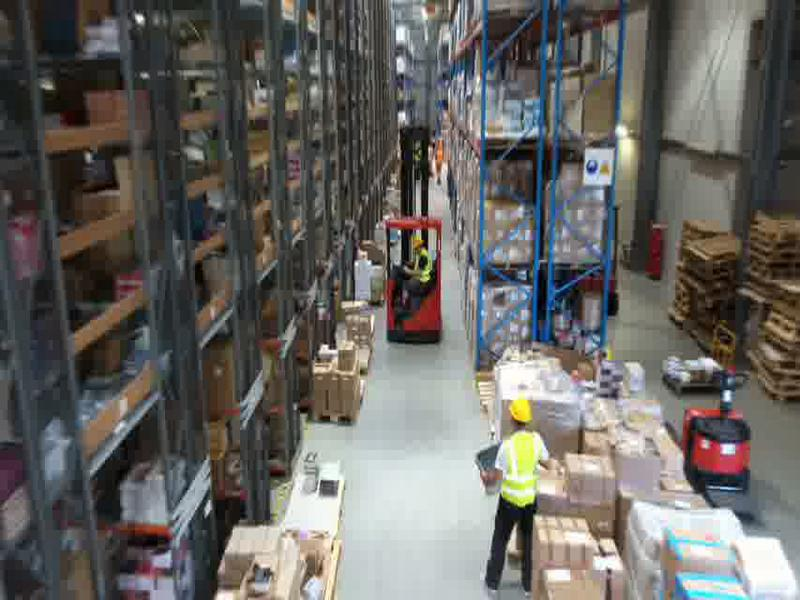hard-hat: (508, 395, 533, 425), (411, 238, 426, 252)
